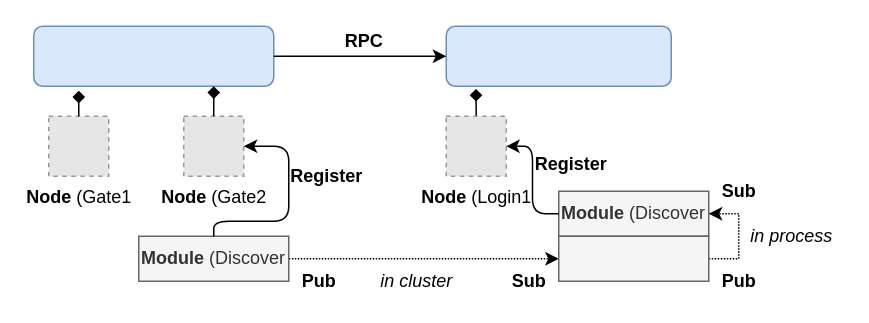
The diagram is 869 pixels wide and 323 high, and some of its shapes have lost their labels. Grey dashed boxes stand in for pictures. Each missing label, with the centre of its shape:
"Module (Linkcache" belongs at [633,258].
"Service (Gate" belongs at [153,55].
"Service (Login" belongs at [558,55].
